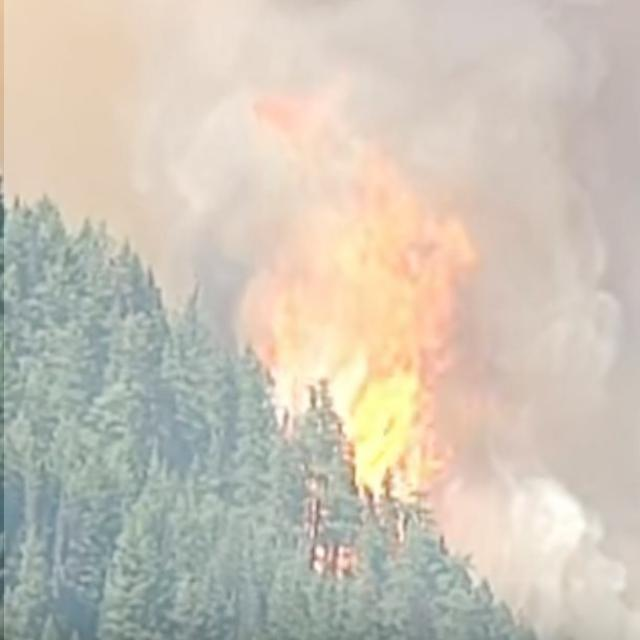Fire: (243, 86, 450, 524)
Smoke: (4, 0, 640, 640)
